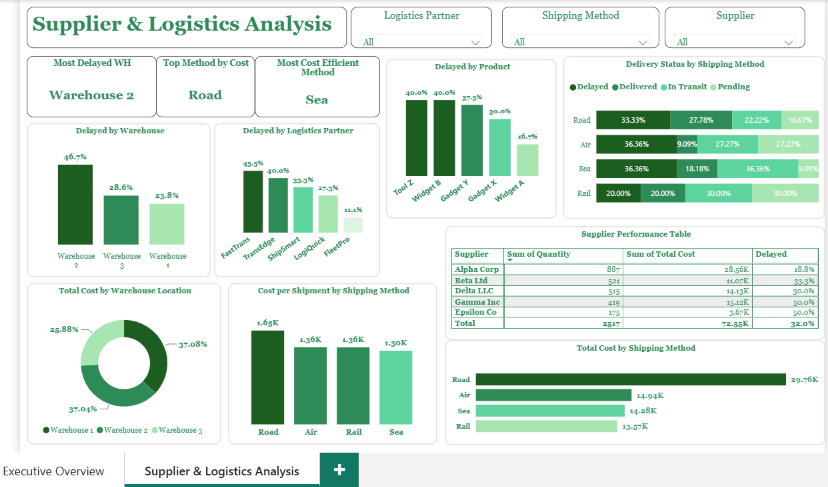

The dashboard page shown, as its layout file describes it:
{"tool":"powerbi","page":{"name":"Supplier & Logistics Analysis","canvas":[1280,720],"ordinal":1},"visuals":[{"type":"clusteredColumnChart","fields":{"Category":["Supply_Chain___Logistics_Datase.Logistics Partner"],"Y":["Supply_Chain___Logistics_Datase.Delayed"]},"box":[308.8,195,263.8,245],"z":0},{"type":"clusteredBarChart","title":"Total Cost by Shipping Method","fields":{"Category":["Supply_Chain___Logistics_Datase.Shipping Method"],"Y":["Sum(Supply_Chain___Logistics_Datase.Total Cost)"]},"box":[676,540.8,604.4,167],"z":1000},{"type":"clusteredColumnChart","title":"Delayed by Product","fields":{"Category":["Supply_Chain___Logistics_Datase.Product"],"Y":["Supply_Chain___Logistics_Datase.Delayed"]},"box":[582.6,94.2,271.2,253.8],"z":2000},{"type":"textbox","box":[10.6,10.6,508.8,65.1],"z":4000},{"type":"slicer","title":"Logistics Partner","fields":{"Values":["Supply_Chain___Logistics_Datase.Logistics Partner"]},"box":[531.2,11.2,223.8,65],"z":6000},{"type":"slicer","title":"Shipping Method ","fields":{"Values":["Supply_Chain___Logistics_Datase.Shipping Method"]},"box":[766.2,10.6,249.8,65.1],"z":7000},{"type":"slicer","title":"Supplier","fields":{"Values":["Supply_Chain___Logistics_Datase.Supplier"]},"box":[1026.6,10.6,222.6,65.1],"z":8000},{"type":"clusteredColumnChart","title":"Delayed by Warehouse","fields":{"Category":["Supply_Chain___Logistics_Datase.Warehouse Location"],"Y":["Supply_Chain___Logistics_Datase.Delayed"]},"box":[11.2,195,292.5,245],"z":9000},{"type":"donutChart","title":"Total Cost by Warehouse Location","fields":{"Category":["Supply_Chain___Logistics_Datase.Warehouse Location"],"Y":["Sum(Supply_Chain___Logistics_Datase.Total Cost)"]},"box":[11.2,450,308.8,257.5],"z":10000},{"type":"pivotTable","title":"Supplier Performance Table","fields":{"Rows":["Supply_Chain___Logistics_Datase.Supplier"],"Values":["Sum(Supply_Chain___Logistics_Datase.Quantity)","Sum(Supply_Chain___Logistics_Datase.Total Cost)","Supply_Chain___Logistics_Datase.Delayed"]},"box":[676.1,359.5,604.5,181.9],"z":11000},{"type":"clusteredColumnChart","fields":{"Category":["Supply_Chain___Logistics_Datase.Shipping Method"],"Y":["Supply_Chain___Logistics_Datase.Cost per Shipment"]},"box":[331.2,450,332.5,257.5],"z":11001},{"type":"hundredPercentStackedBarChart","title":"Delivery Status by Shipping Method","fields":{"Category":["Supply_Chain___Logistics_Datase.Shipping Method"],"Series":["Supply_Chain___Logistics_Datase.Delivery Status"],"Y":["Supply_Chain___Logistics_Datase.Total Shipment"]},"box":[863.7,89.1,416.7,259.3],"z":11002},{"type":"cardVisual","title":"Most Delayed WH","fields":{"Data":["Supply_Chain___Logistics_Datase.Most Delayed Warehouse"]},"box":[11.2,88.8,206.2,97.5],"z":11003},{"type":"cardVisual","title":"Top Method by Cost","fields":{"Data":["Supply_Chain___Logistics_Datase.Top Shipping Method by Cost"]},"box":[216.2,88.8,157.5,97.5],"z":11004},{"type":"cardVisual","title":"Most Cost Efficient Method","fields":{"Data":["Supply_Chain___Logistics_Datase.Most Cost Efficient Method"]},"box":[373.8,88.8,198.8,97.5],"z":11005}]}

Visuals, with their boxes on the page's 1280x720 design canvas (x1, y1, x2, y2). These are canvas units, not pixel positions in the 828x487 screenshot, which may show the page scaled, cropped or inside an application window:
clusteredColumnChart - Supply_Chain___Logistics_Datase.Logistics Partner x Supply_Chain___Logistics_Datase.Delayed: {"x1": 309, "y1": 195, "x2": 573, "y2": 440}
"Total Cost by Shipping Method" clusteredBarChart: {"x1": 676, "y1": 541, "x2": 1280, "y2": 708}
"Delayed by Product" clusteredColumnChart: {"x1": 583, "y1": 94, "x2": 854, "y2": 348}
textbox: {"x1": 11, "y1": 11, "x2": 519, "y2": 76}
"Logistics Partner" slicer: {"x1": 531, "y1": 11, "x2": 755, "y2": 76}
"Shipping Method " slicer: {"x1": 766, "y1": 11, "x2": 1016, "y2": 76}
"Supplier" slicer: {"x1": 1027, "y1": 11, "x2": 1249, "y2": 76}
"Delayed by Warehouse" clusteredColumnChart: {"x1": 11, "y1": 195, "x2": 304, "y2": 440}
"Total Cost by Warehouse Location" donutChart: {"x1": 11, "y1": 450, "x2": 320, "y2": 708}
"Supplier Performance Table" pivotTable: {"x1": 676, "y1": 360, "x2": 1281, "y2": 541}
clusteredColumnChart - Supply_Chain___Logistics_Datase.Shipping Method x Supply_Chain___Logistics_Datase.Cost per Shipment: {"x1": 331, "y1": 450, "x2": 664, "y2": 708}
"Delivery Status by Shipping Method" hundredPercentStackedBarChart: {"x1": 864, "y1": 89, "x2": 1280, "y2": 348}
"Most Delayed WH" cardVisual: {"x1": 11, "y1": 89, "x2": 217, "y2": 186}
"Top Method by Cost" cardVisual: {"x1": 216, "y1": 89, "x2": 374, "y2": 186}
"Most Cost Efficient Method" cardVisual: {"x1": 374, "y1": 89, "x2": 573, "y2": 186}
